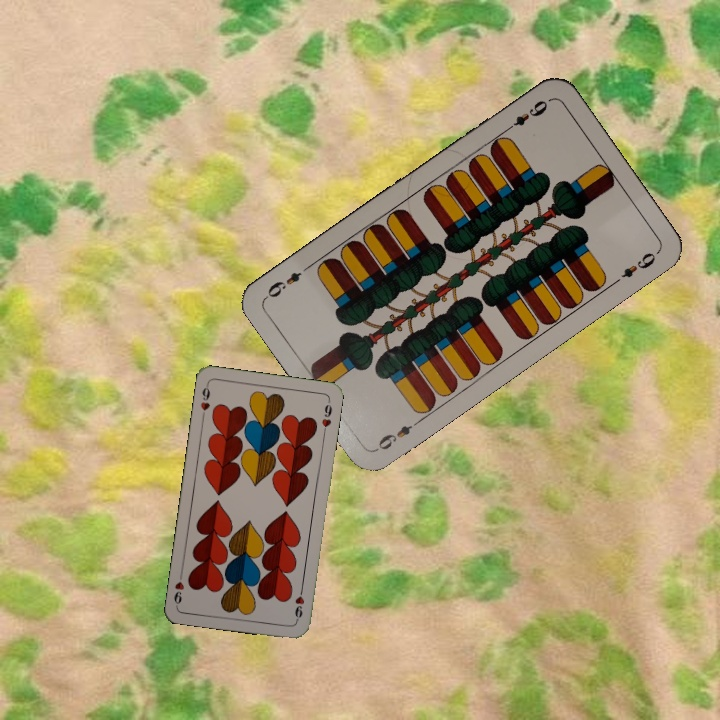E9: (501, 95, 552, 135), (371, 416, 423, 455)
H9: (291, 583, 307, 624), (197, 380, 212, 420)
